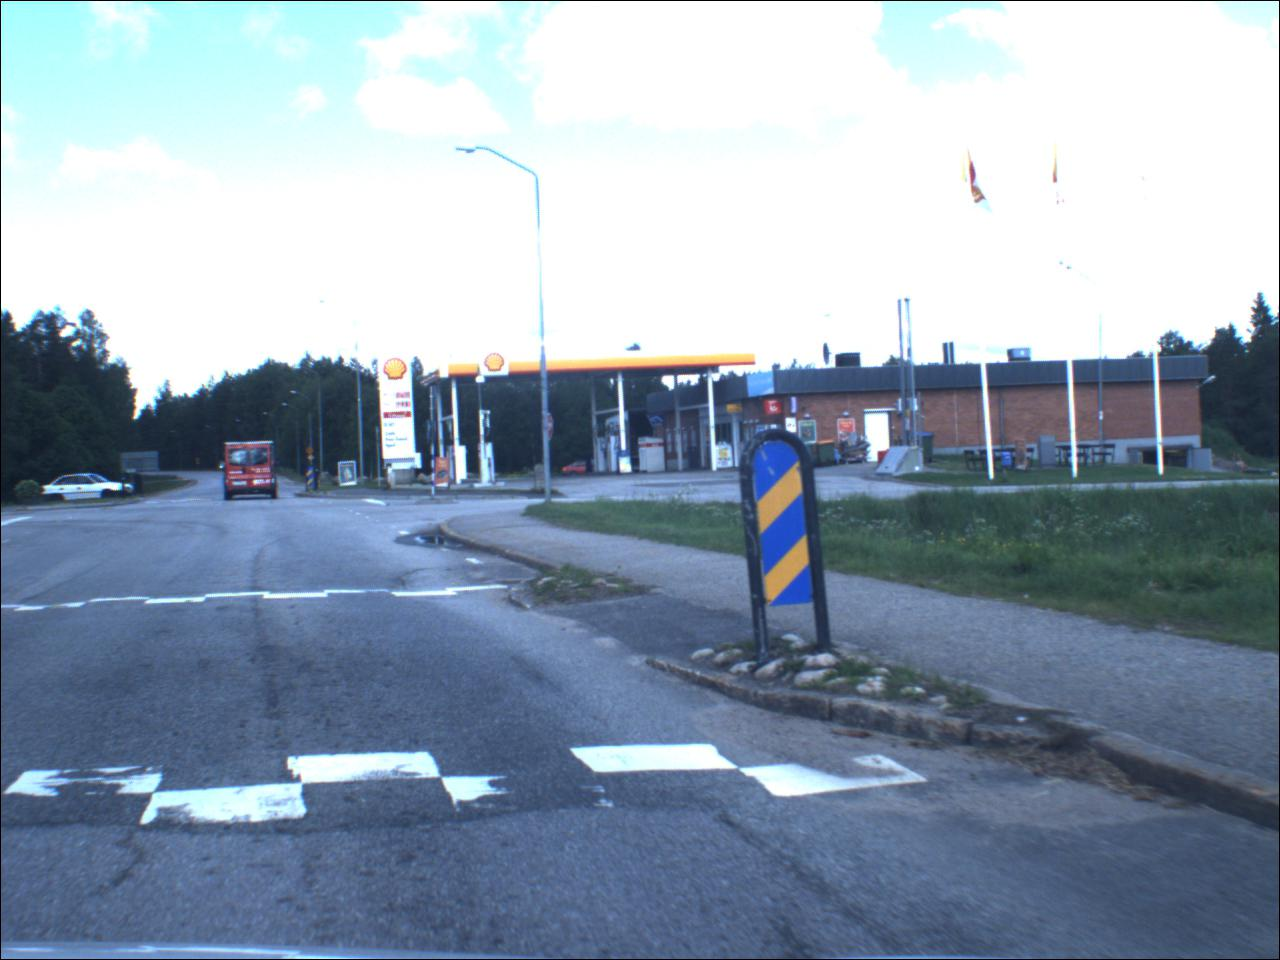50_SIGN: (307, 448, 316, 456)
PRIORITY_ROAD: (309, 456, 317, 463)
STOP: (544, 414, 557, 442)
